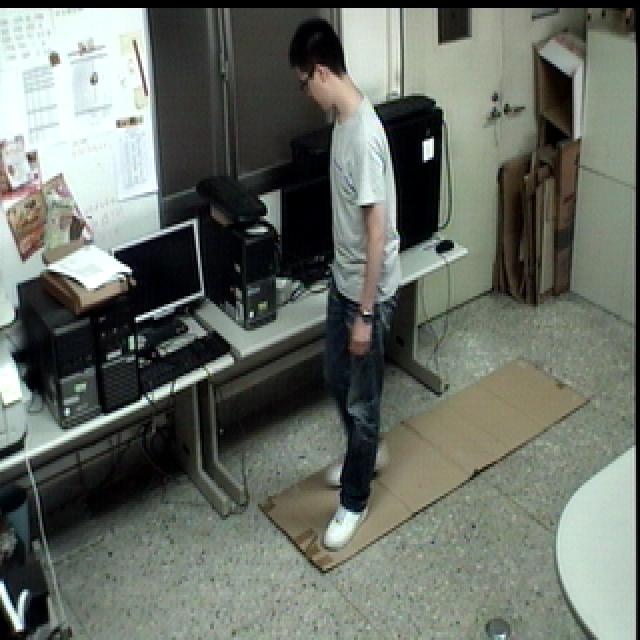stand: (276, 11, 403, 559)
